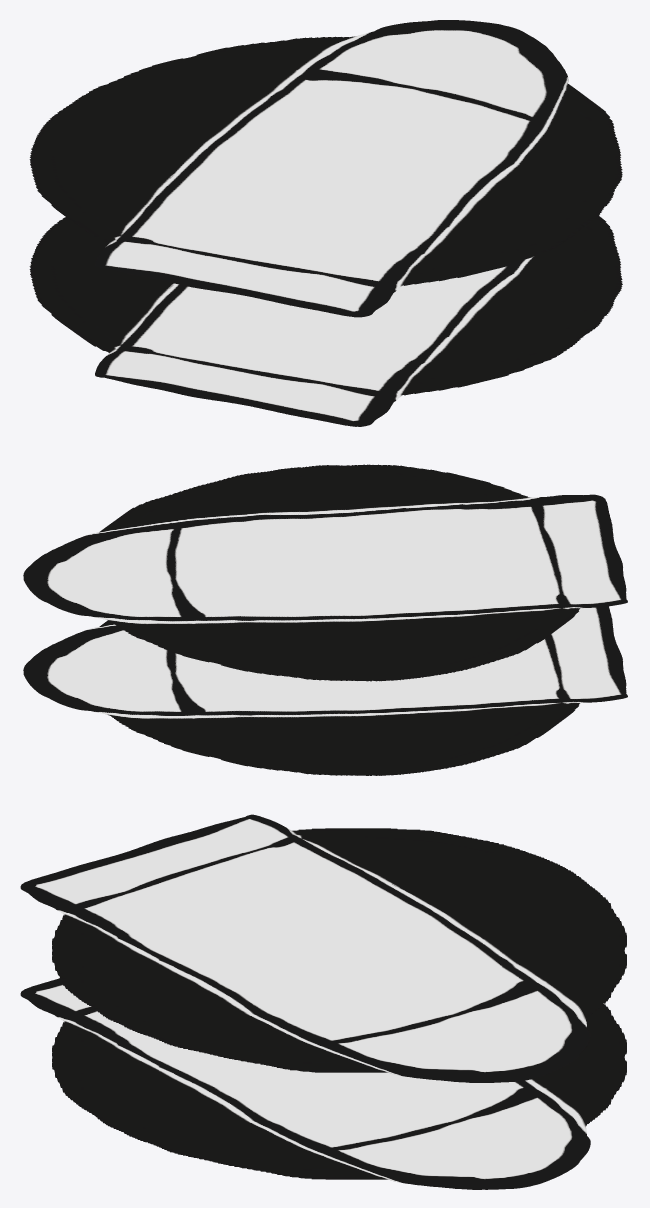
Rendered from normal1.fbx.
3 views of the same model, one above another, from view 1: azimuth 30°, elevation 25°; view 2: azimuth 150°, elevation 25°; view 3: azimuth 270°, elevation 25° (orthographic). The views are drawn at different scales.
Visible parts, largest first — view 1: Curve.001; view 2: Curve.001; view 3: Curve.001.
Boxes of the visible parts, bbox=[...] form: Curve.001: bbox=[29, 20, 622, 426]; Curve.001: bbox=[23, 464, 627, 775]; Curve.001: bbox=[20, 814, 626, 1189].
Bounding box in the file's own units: 83.32 × 15 × 79.12.
